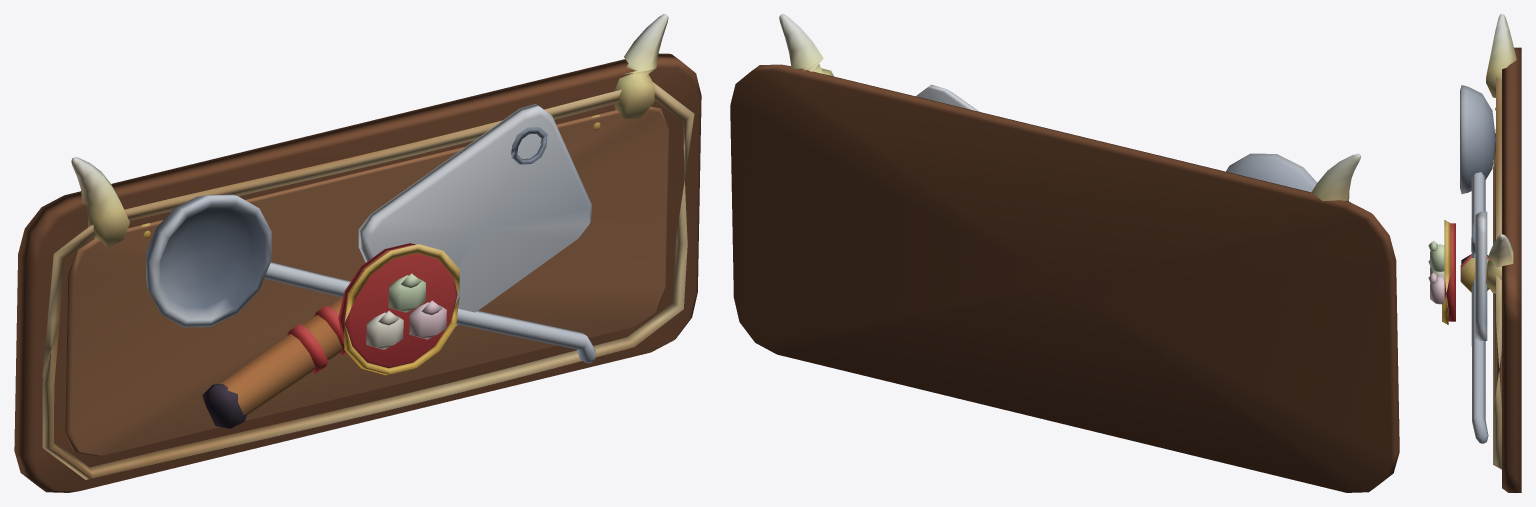
The model's file is furn-trophyOniCleaver.glb.
The picture shows the model from 3 angles, left to right: view 1: azimuth 30°, elevation 25°; view 2: azimuth 150°, elevation 25°; view 3: azimuth 270°, elevation 25°; orthographic projection. The views are drawn at different scales.
Visible parts, largest first — view 1: furn-trophyOniCleaver; view 2: furn-trophyOniCleaver; view 3: furn-trophyOniCleaver.
Boxes of the visible parts, <box> form: furn-trophyOniCleaver: <box>14,14,701,492</box>; furn-trophyOniCleaver: <box>730,14,1399,492</box>; furn-trophyOniCleaver: <box>1428,14,1521,492</box>.
Size of the model in its own units: 0.905 by 0.4317 by 0.1414.
